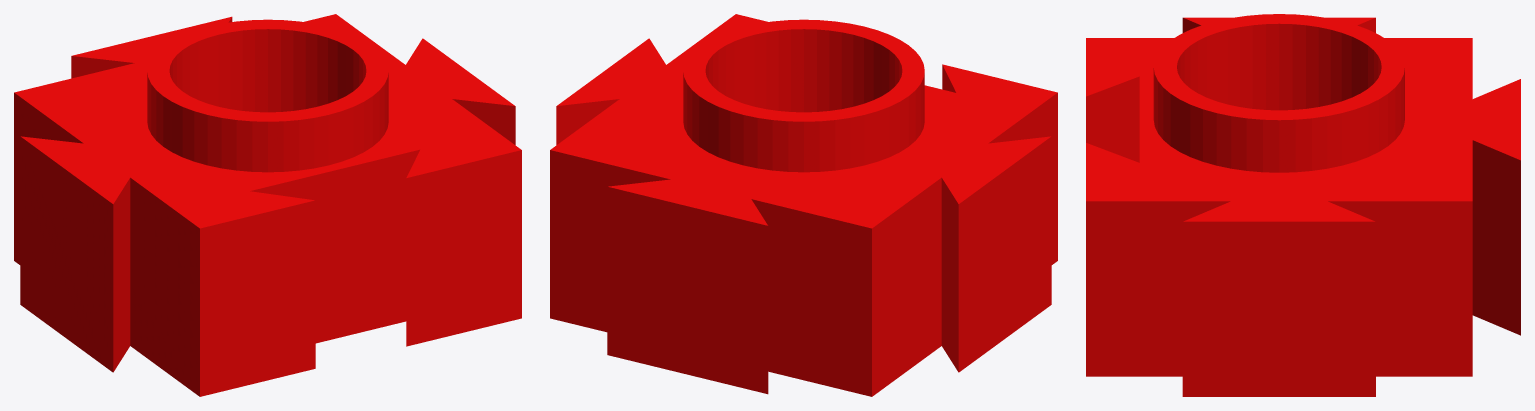
The model's file is redPLAEXSide.obj.
3 views of the same model, side by side, from view 1: azimuth 30°, elevation 25°; view 2: azimuth 150°, elevation 25°; view 3: azimuth 270°, elevation 25° (orthographic). The views are drawn at different scales.
Visible parts, largest first — view 1: PLAEXSide_2x2x1; view 2: PLAEXSide_2x2x1; view 3: PLAEXSide_2x2x1.
Part boxes in pixels (left/top/right/bottom): PLAEXSide_2x2x1: left=14, top=14, right=521, bottom=396; PLAEXSide_2x2x1: left=550, top=14, right=1057, bottom=396; PLAEXSide_2x2x1: left=1086, top=14, right=1520, bottom=396.
Size of the model in its own units: 2.5 by 1.3 by 2.25.
